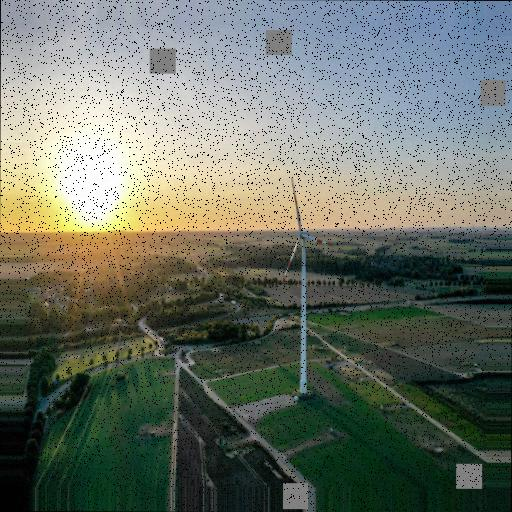wind turbine: (285, 178, 335, 391)
